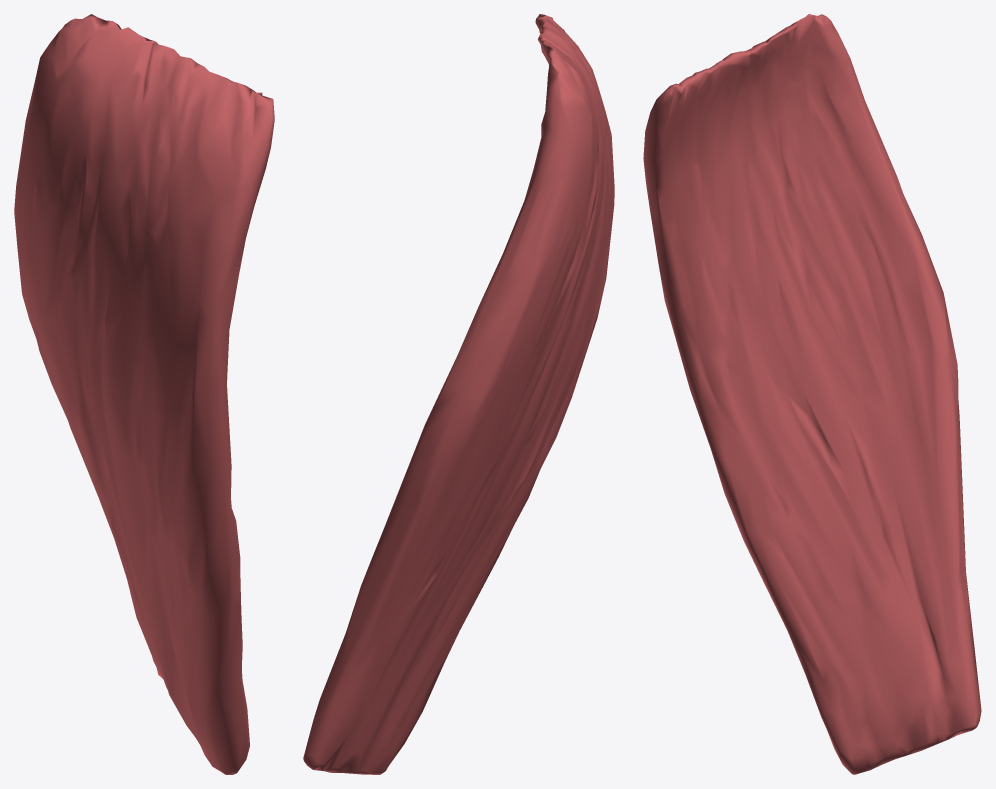
The picture shows the model from 3 angles, left to right: view 1: azimuth 30°, elevation 25°; view 2: azimuth 150°, elevation 25°; view 3: azimuth 270°, elevation 25°; orthographic projection. The views are drawn at different scales.
Visible parts, largest first — view 1: 右侧甲杓肌外侧部; view 2: 右侧甲杓肌外侧部; view 3: 右侧甲杓肌外侧部.
Boxes of the visible parts, bbox=[...] form: 右侧甲杓肌外侧部: bbox=[14, 14, 274, 774]; 右侧甲杓肌外侧部: bbox=[303, 14, 614, 774]; 右侧甲杓肌外侧部: bbox=[643, 14, 981, 774].
Size of the model in its own units: 0.0088 by 0.0306 by 0.0136.
